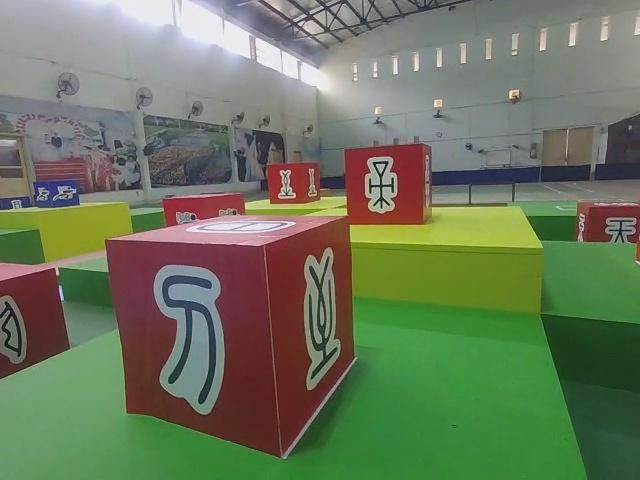R2 Fake: (105, 214, 362, 461)
R2 Real: (0, 257, 73, 381), (343, 143, 433, 229), (258, 161, 323, 205)
